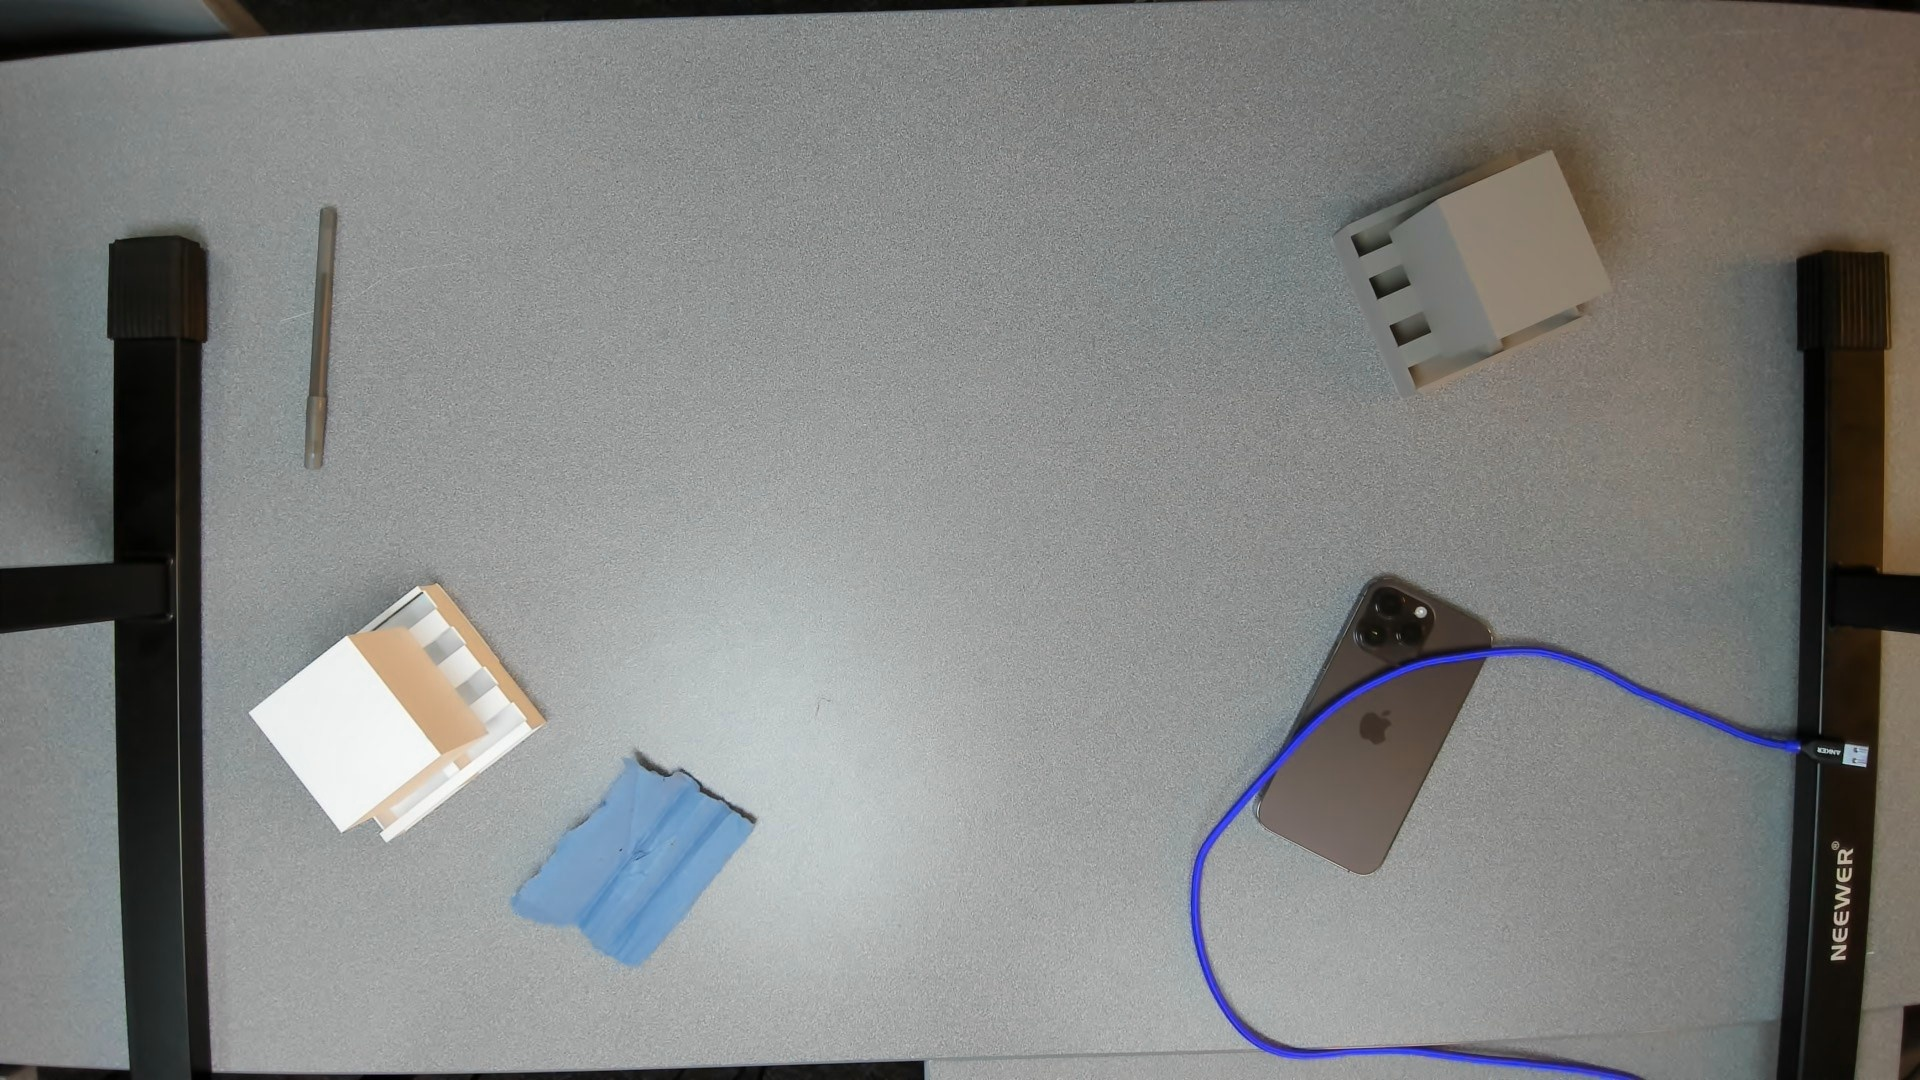grey pallet: (1320, 142, 1629, 406)
white pallet: (237, 570, 560, 857)
